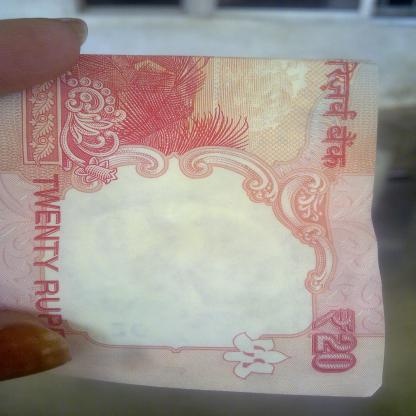Old20Back: (6, 54, 371, 387)
